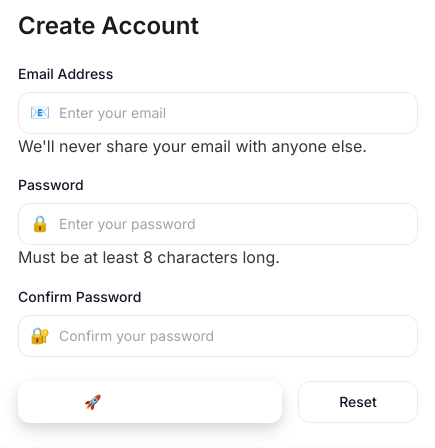
Form Integration › Form Validation › shows error for invalid email format
Type "invalid-email" into the field labelled "Email Address" at (218, 113), box x1=18 y1=92 x2=418 y2=134
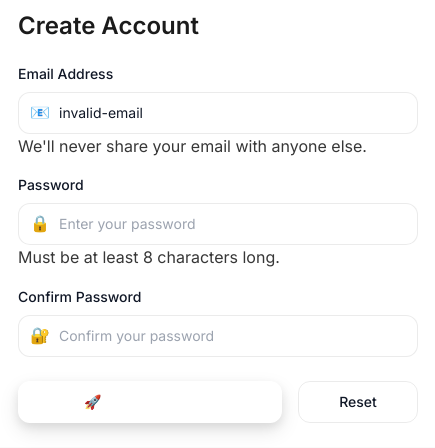
Click the button "🚀 Create Account" at (150, 402), box x1=18 y1=381 x2=282 y2=423
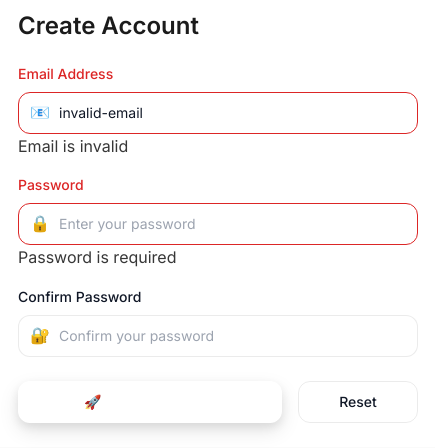
Result: the text "Email is invalid" is shown at x1=18 y1=136 x2=128 y2=156
